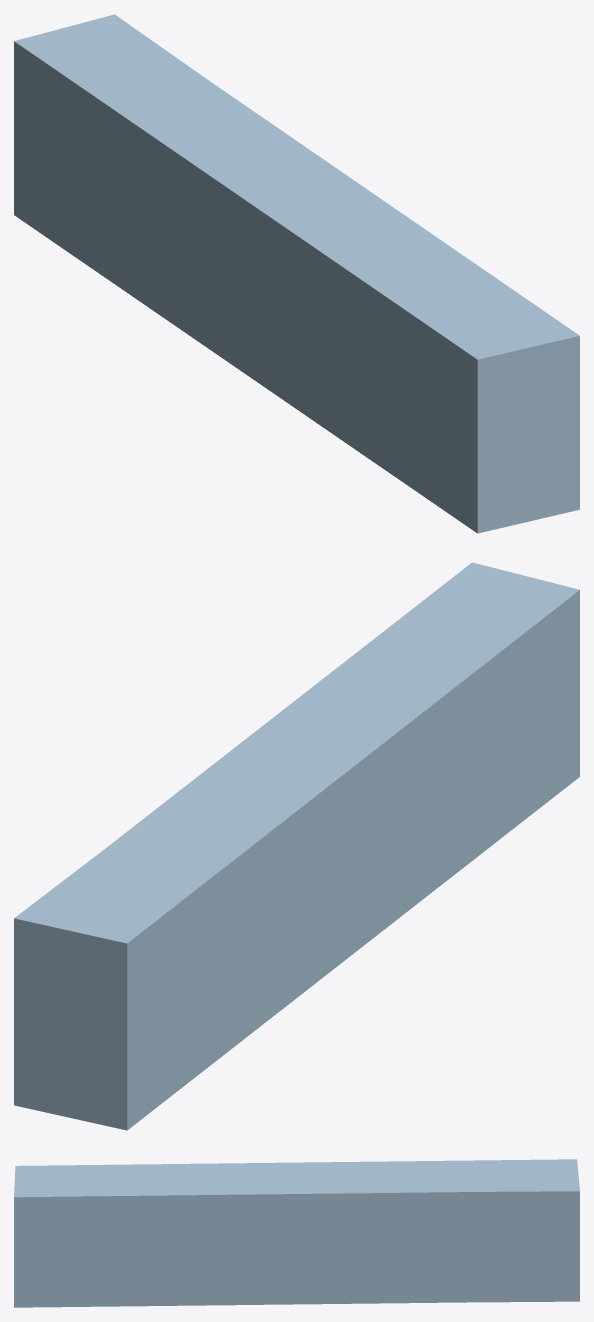
File: osm_way_224990428.glb
3 views of the same model, one above another, from view 1: azimuth 30°, elevation 25°; view 2: azimuth 150°, elevation 25°; view 3: azimuth 270°, elevation 25° (orthographic). The views are drawn at different scales.
Visible parts, largest first — view 1: osm_way_224990428; view 2: osm_way_224990428; view 3: osm_way_224990428.
Boxes of the visible parts, x1,y1,x2,y2 form: osm_way_224990428: (14,14,579,533); osm_way_224990428: (14,562,579,1130); osm_way_224990428: (14,1159,579,1307).
Size of the model in its own units: 5.17 by 7 by 32.52.
